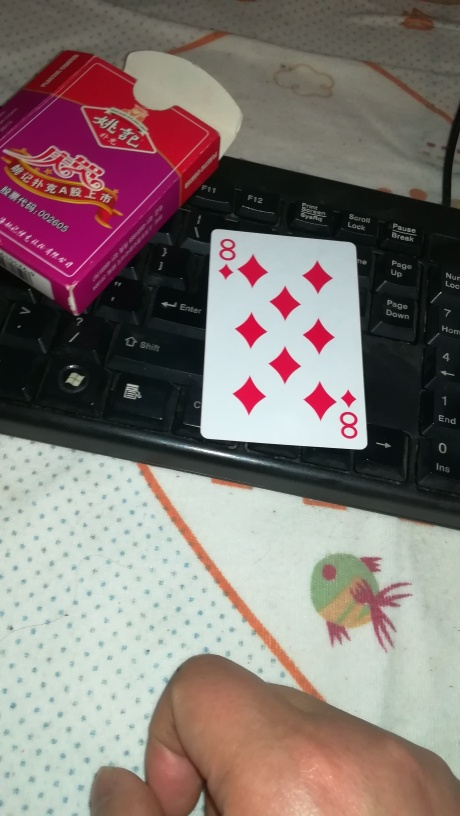fk 8: (197, 229, 369, 452)
